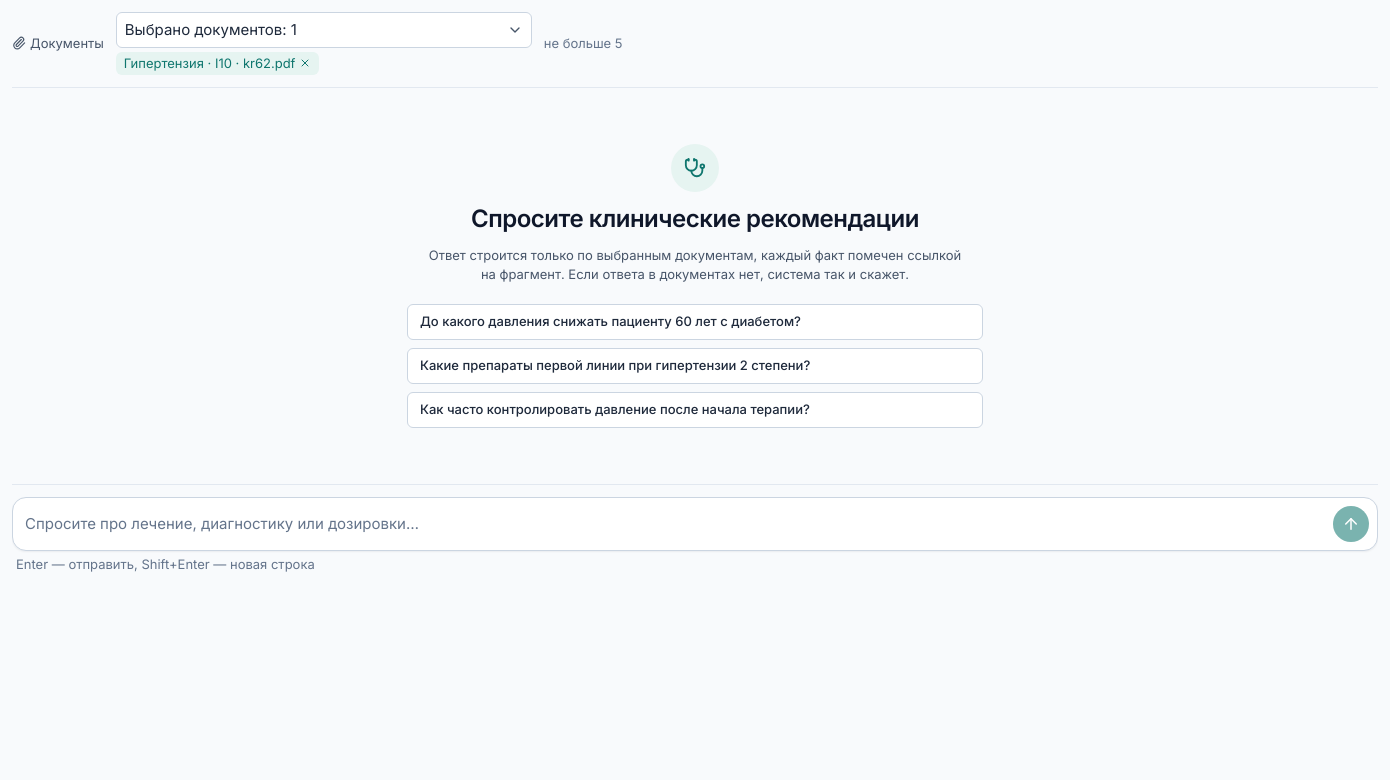
Test: ChatPage › рисует markdown-ответ списком, а не одной строкой
This screenshot has width=1390, height=780.
In the text box named "Вопрос по клинрекам": (673, 524) [21,506,1325,542], type "до какого давления снижать пациенту 60 лет?"
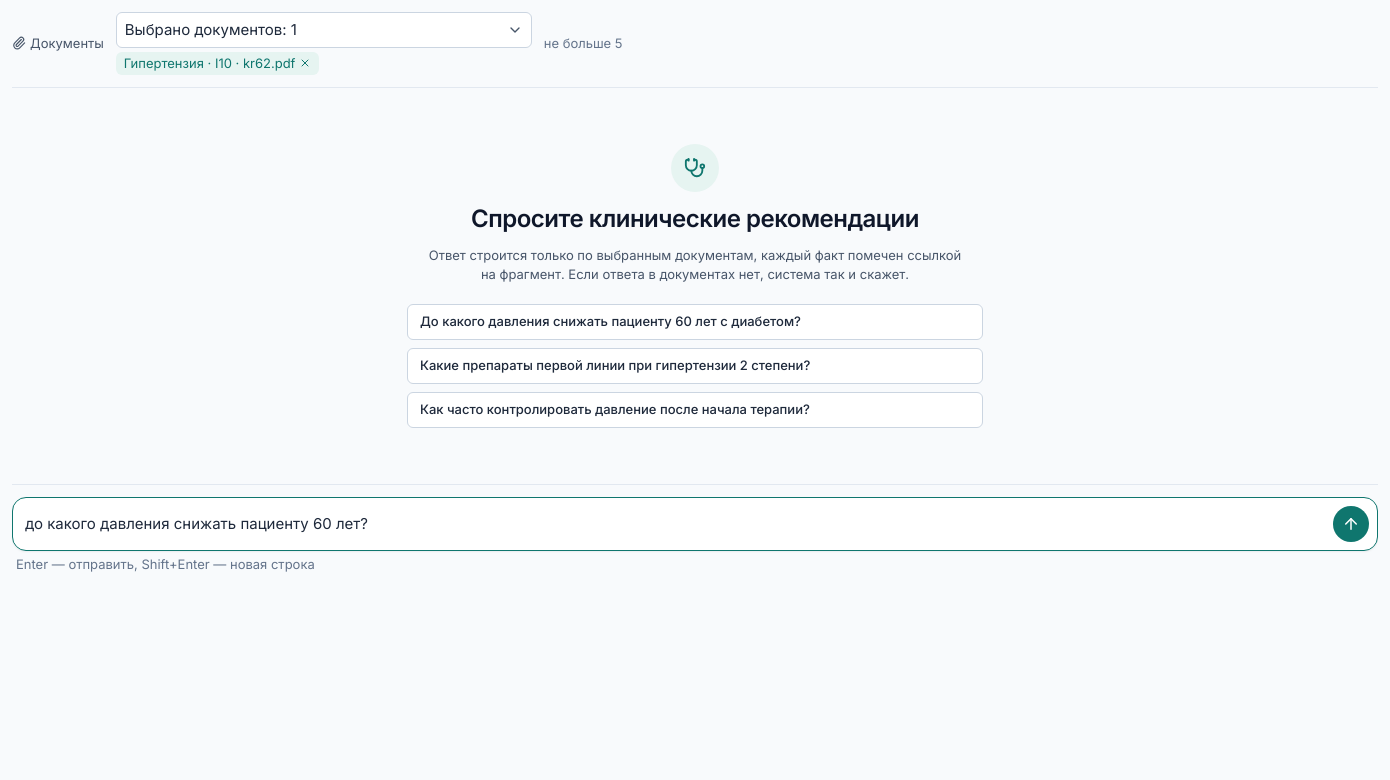
Click the button named "Отправить": click(1351, 524) [1333,506,1369,542]
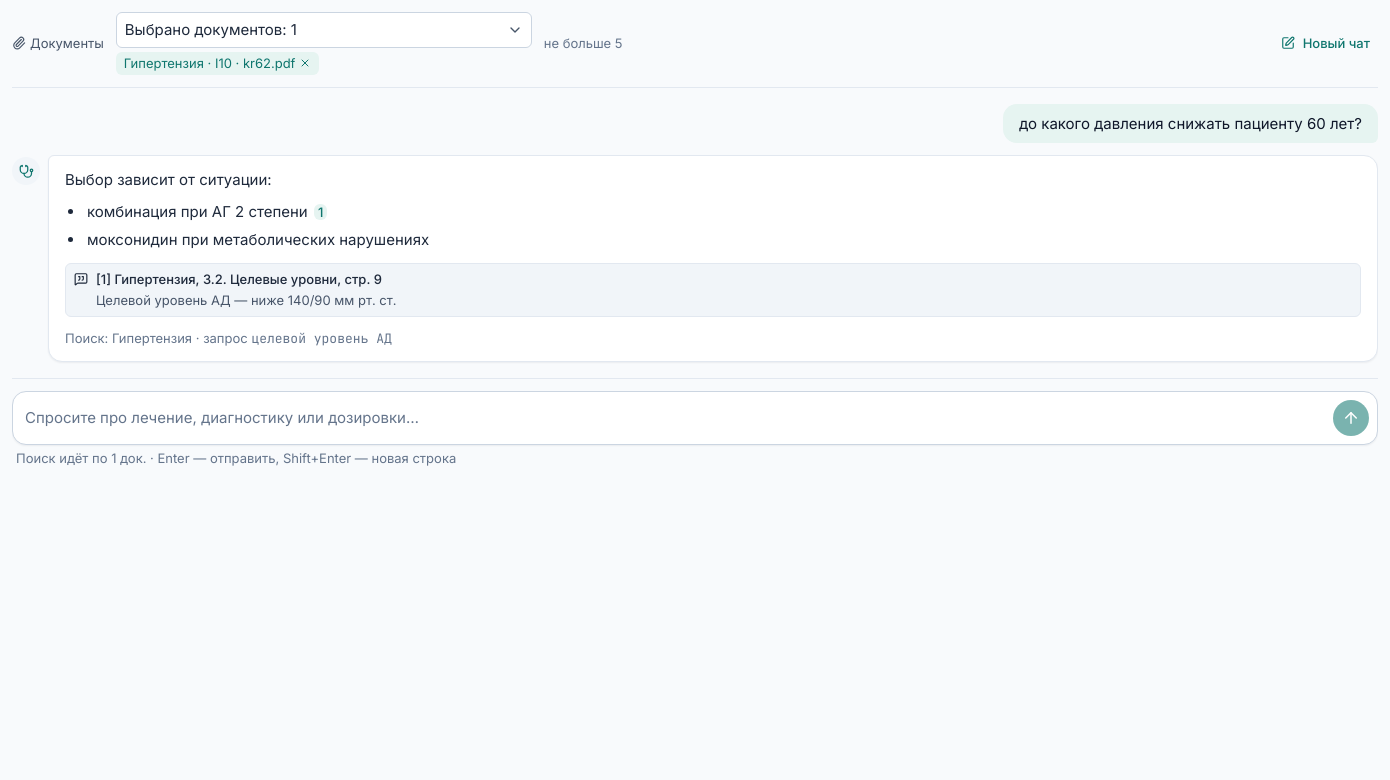
Now the list item "моксонидин при метаболических нарушениях" is shown, box [87,230,429,249]
